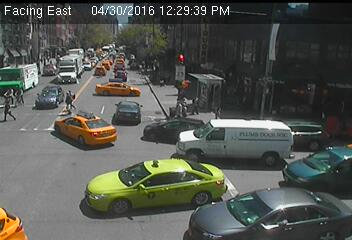neg: (85, 181, 108, 212), (93, 129, 115, 158), (131, 92, 151, 119), (293, 91, 312, 117), (253, 75, 272, 100), (209, 144, 227, 168), (279, 164, 297, 188), (221, 43, 239, 66), (29, 181, 47, 204), (157, 127, 174, 151), (118, 178, 135, 201), (41, 41, 58, 63), (301, 129, 317, 151), (61, 161, 77, 183), (168, 183, 184, 205), (209, 77, 224, 97), (222, 203, 237, 223), (112, 57, 127, 76), (130, 32, 145, 51), (248, 134, 262, 154), (289, 42, 303, 61), (174, 55, 187, 73)
pos: (1, 96, 20, 122), (61, 90, 76, 110), (190, 95, 205, 115), (174, 99, 187, 117)
